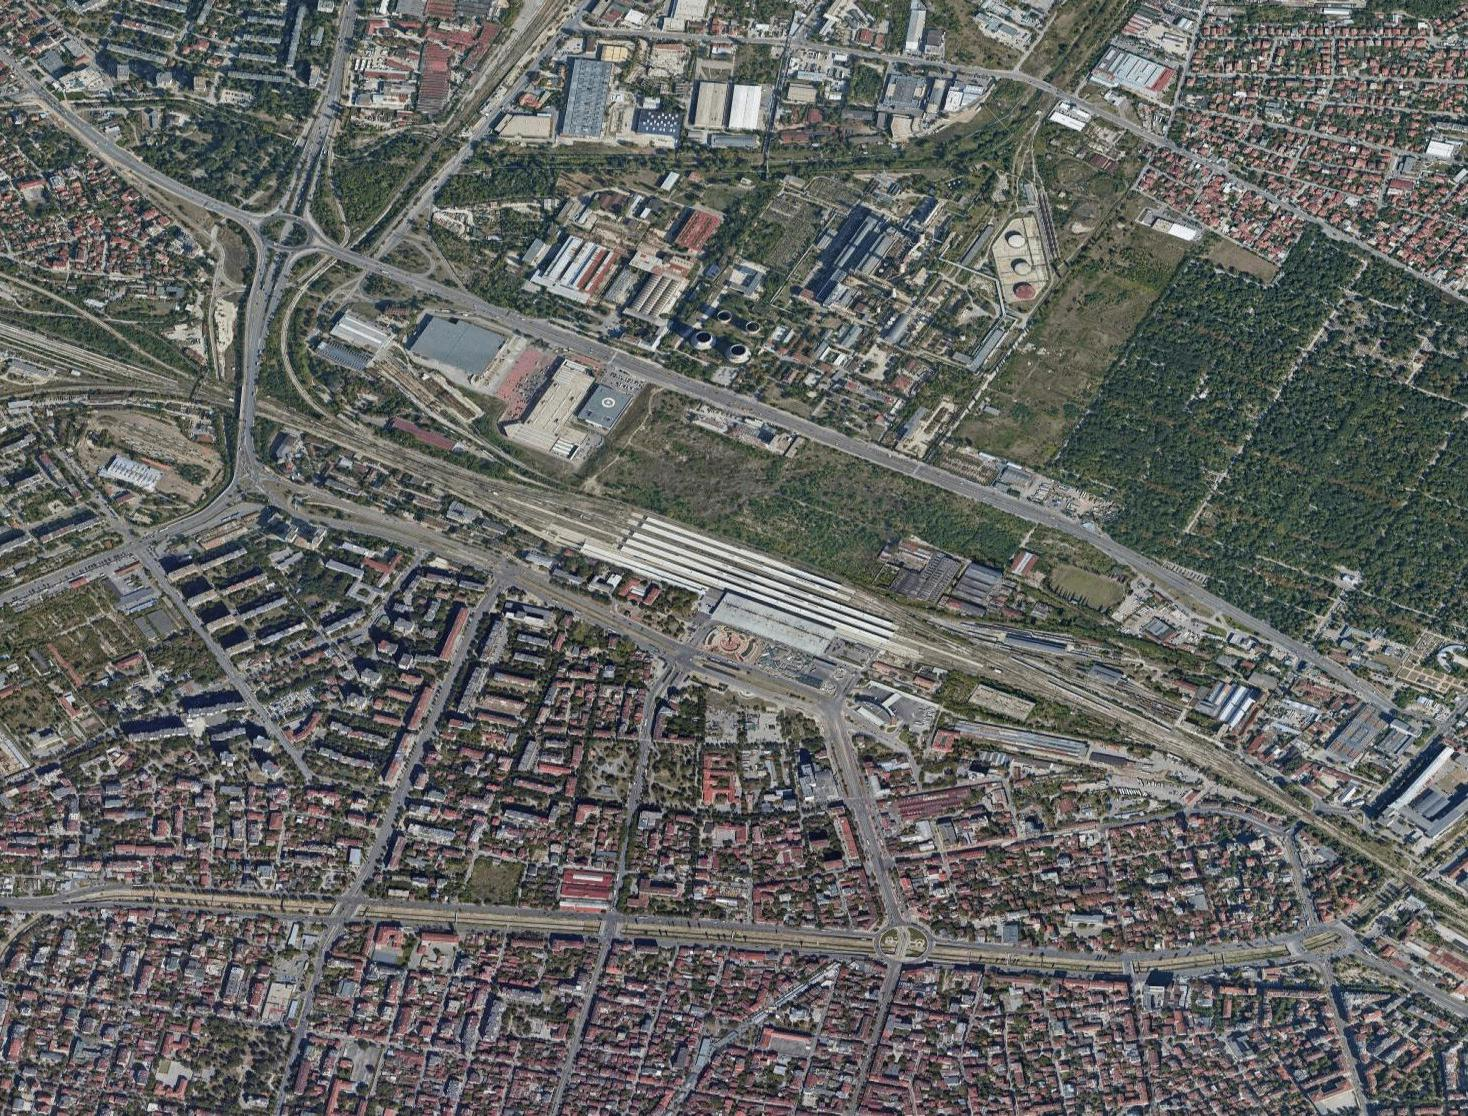industrial: (517, 26, 972, 161)
motorway: (825, 436, 1090, 538), (338, 239, 582, 348), (586, 336, 830, 445), (140, 159, 337, 261), (11, 64, 140, 168), (1090, 533, 1228, 614), (1229, 603, 1366, 683)
train_station: (578, 499, 909, 694)
